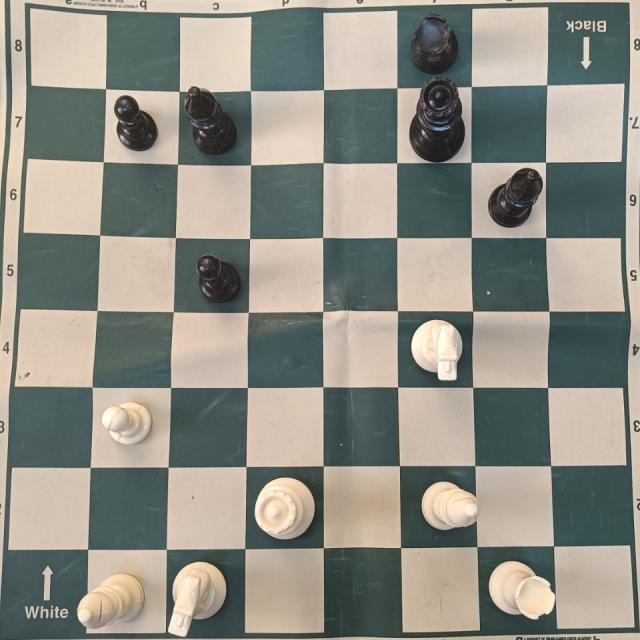black-bishop: (182, 85, 240, 153), (489, 165, 543, 232)
black-pawn: (114, 94, 160, 152), (197, 252, 244, 304)
black-queen: (402, 75, 467, 163)
black-rook: (406, 13, 462, 72)
white-bishop: (76, 564, 146, 630), (422, 478, 481, 535)
white-knight: (167, 559, 231, 635), (410, 316, 467, 383)
white-pawn: (102, 399, 153, 449)
white-queen: (255, 477, 318, 541)
white-rook: (487, 557, 556, 626)
